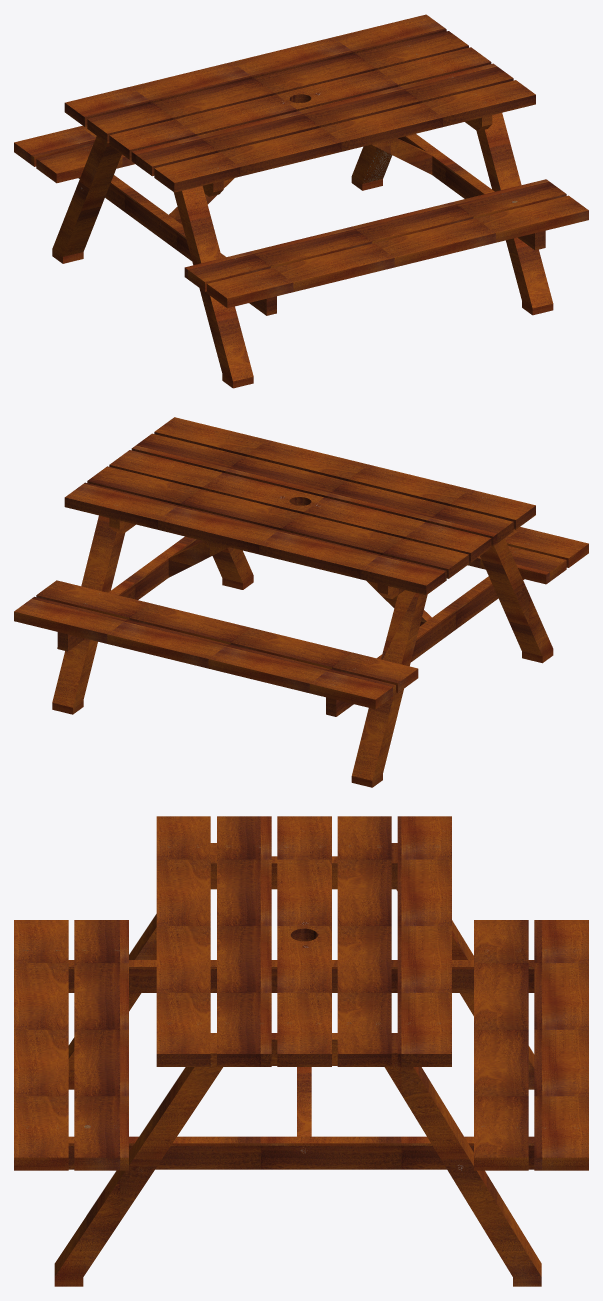
The picture shows the model from 3 angles, top to bottom: view 1: azimuth 30°, elevation 25°; view 2: azimuth 150°, elevation 25°; view 3: azimuth 270°, elevation 25°; orthographic projection. The views are drawn at different scales.
Parts seen in each view (by area): view 1: mesh1_mesh1-geometry; view 2: mesh1_mesh1-geometry; view 3: mesh1_mesh1-geometry.
Boxes of the visible parts, bbox=[...] form: mesh1_mesh1-geometry: bbox=[14, 14, 588, 388]; mesh1_mesh1-geometry: bbox=[14, 417, 588, 787]; mesh1_mesh1-geometry: bbox=[14, 816, 588, 1286].
Size of the model in its own units: 0.6626 by 0.3202 by 0.6771.
